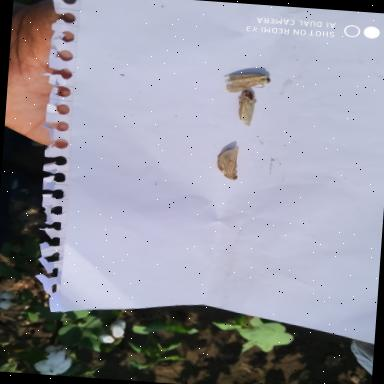abw: (220, 64, 274, 98), (210, 140, 242, 184), (230, 88, 260, 129)
